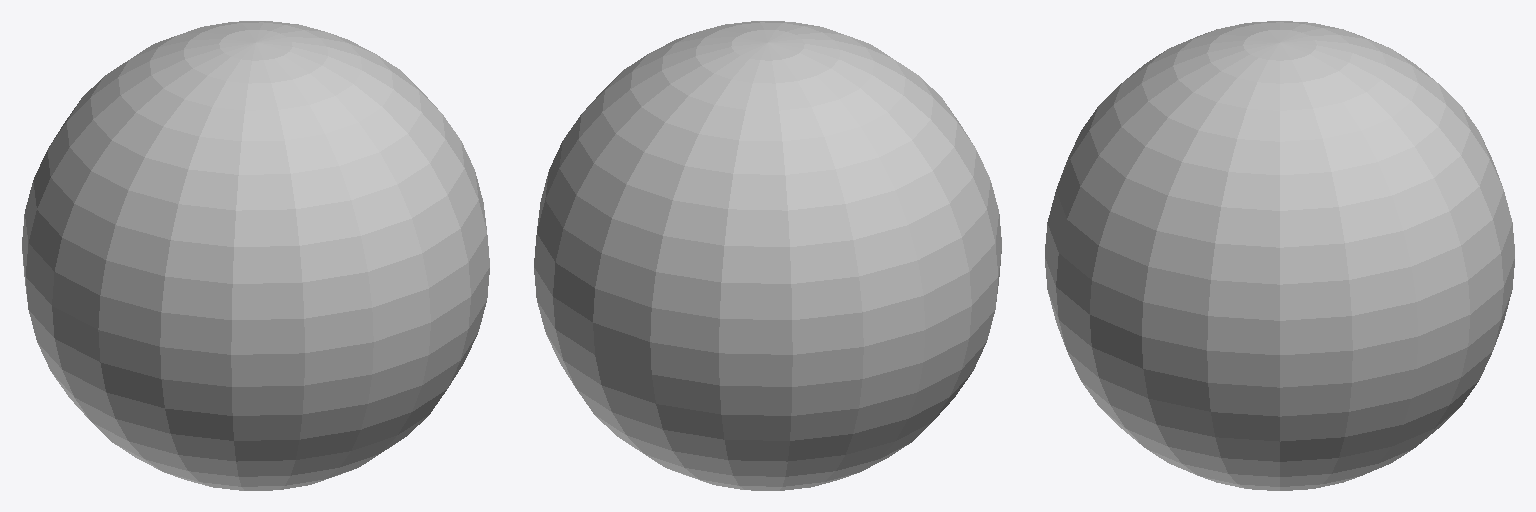
Rendered from Objeto12.obj.
3 renders of one model, left to right at view 1: azimuth 30°, elevation 25°; view 2: azimuth 150°, elevation 25°; view 3: azimuth 270°, elevation 25°, orthographic.
Parts seen in each view (by area): view 1: polySurface149 Librero:polySurface14; view 2: polySurface149 Librero:polySurface14; view 3: polySurface149 Librero:polySurface14.
Part boxes in pixels (left/top/right/bottom): polySurface149 Librero:polySurface14: left=22, top=21, right=489, bottom=490; polySurface149 Librero:polySurface14: left=534, top=21, right=1001, bottom=490; polySurface149 Librero:polySurface14: left=1045, top=21, right=1514, bottom=490.
Size of the model in its own units: 0.6287 by 0.6287 by 0.6287.